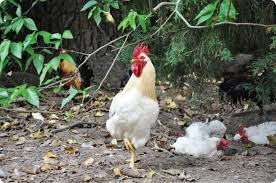chicken: (95, 45, 167, 179)
